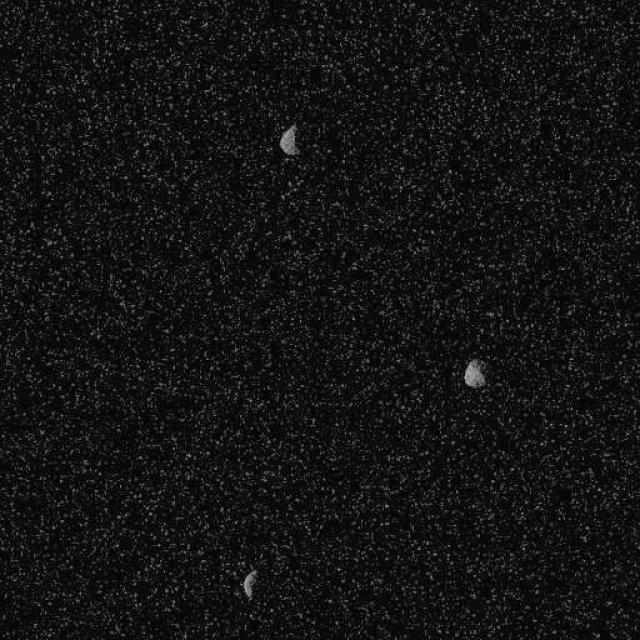D2: (462, 358, 487, 388), (278, 122, 298, 156), (242, 569, 258, 599)
